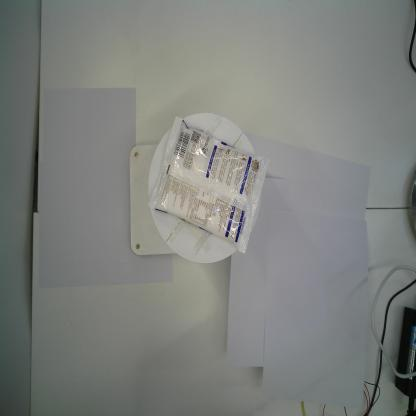Seasoner: (146, 116, 269, 255)
